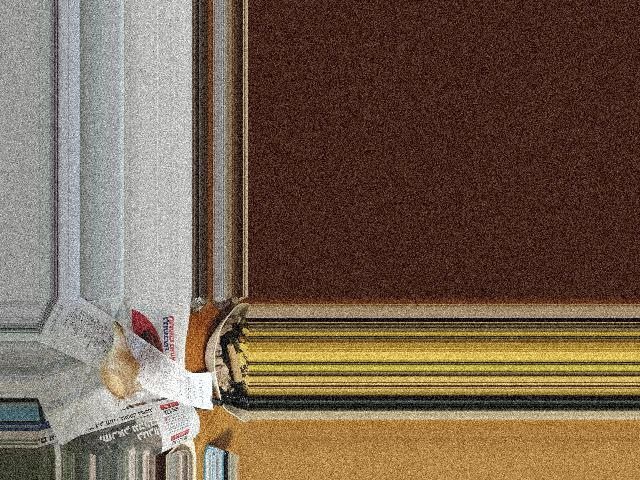onion: (102, 344, 139, 394)
